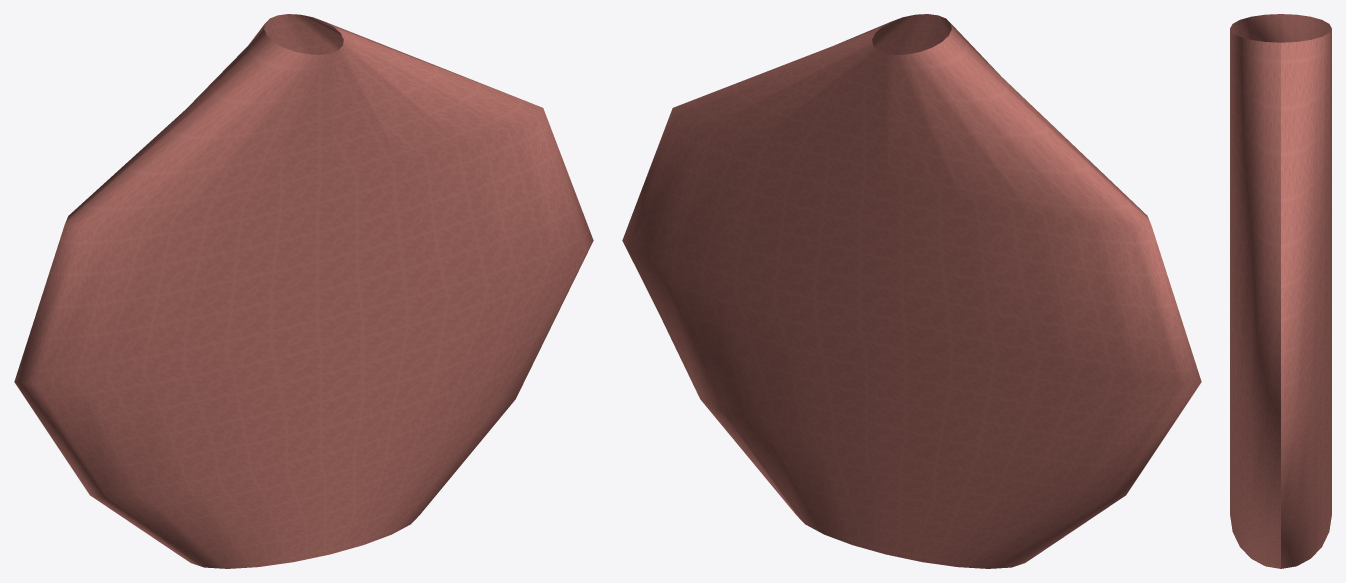
Rendered from ear.obj.
The picture shows the model from 3 angles, left to right: view 1: azimuth 30°, elevation 25°; view 2: azimuth 150°, elevation 25°; view 3: azimuth 270°, elevation 25°; orthographic projection. The views are drawn at different scales.
Size of the model in its own units: 0.23 by 0.19 by 0.036.
1 material, 1 textured.
